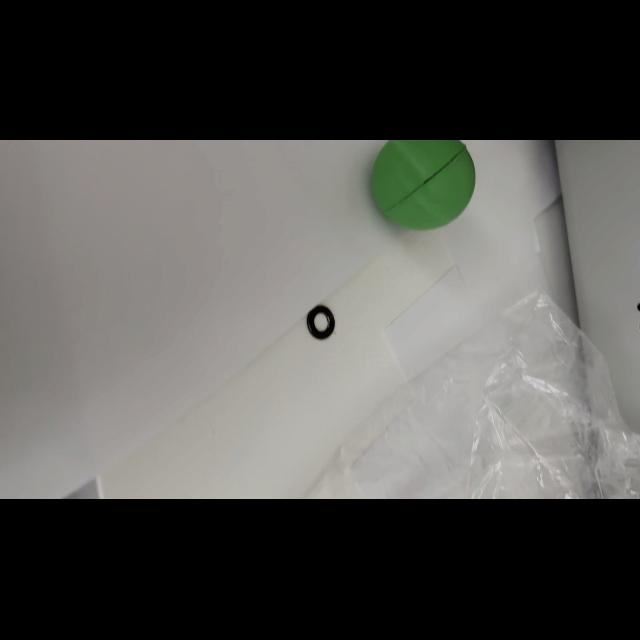objects: (366, 140, 479, 234)
